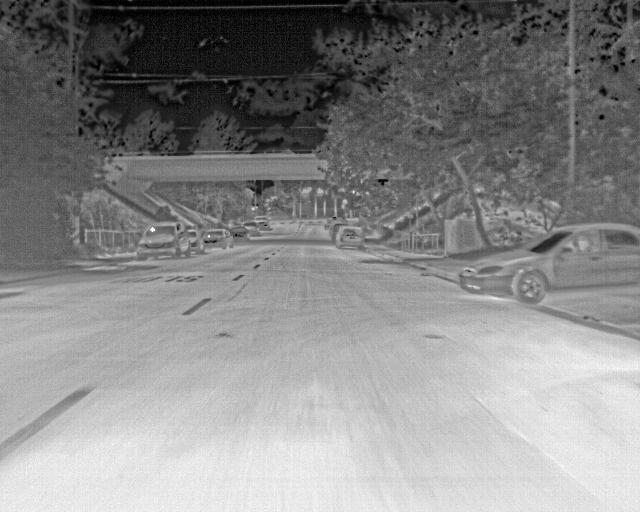car: (457, 221, 639, 305), (136, 221, 186, 260), (336, 225, 365, 249), (202, 226, 233, 248), (182, 228, 204, 250), (328, 225, 344, 241), (254, 214, 269, 229), (245, 220, 259, 235)
